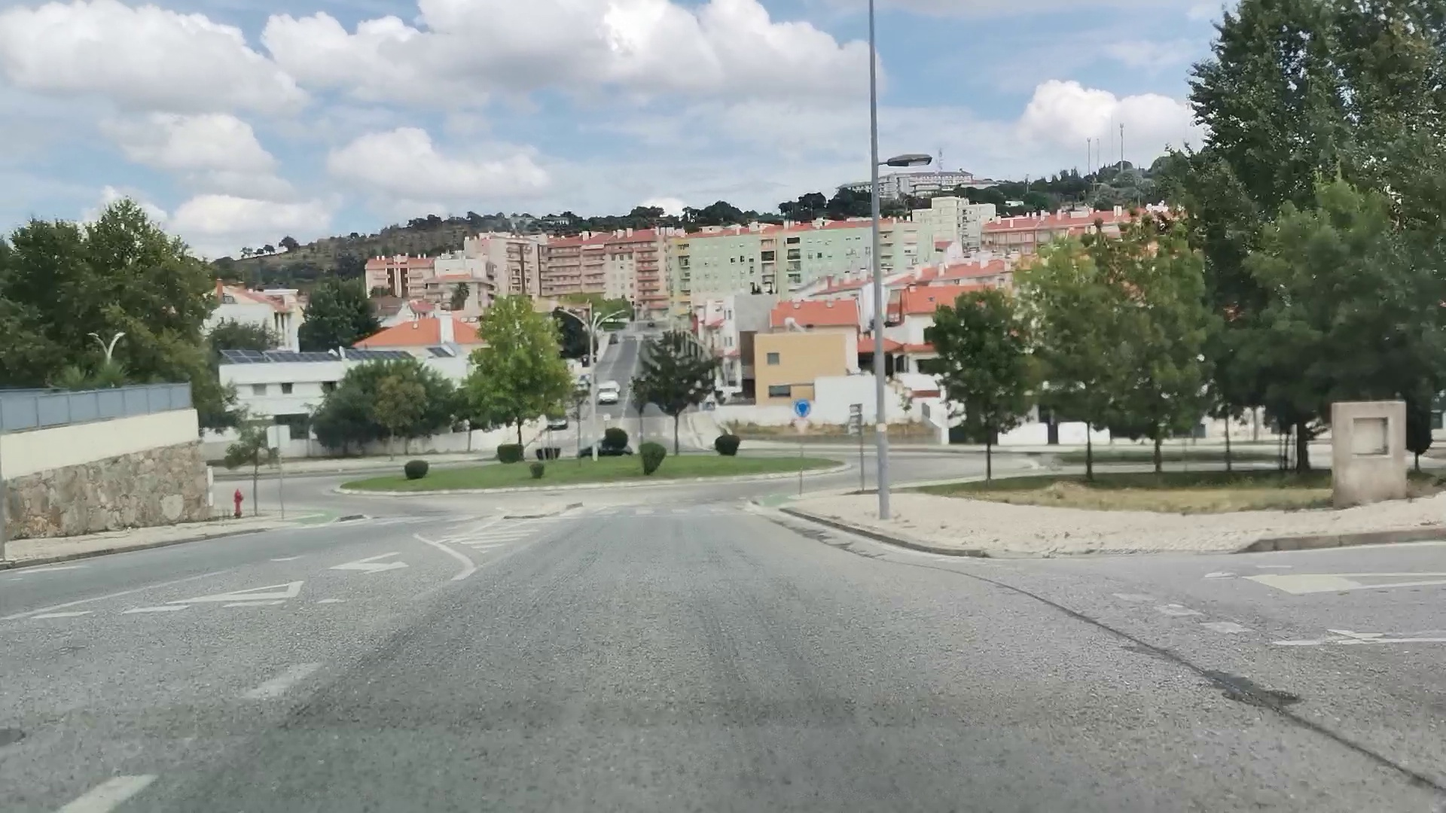Stairs: (555, 500, 766, 522)
